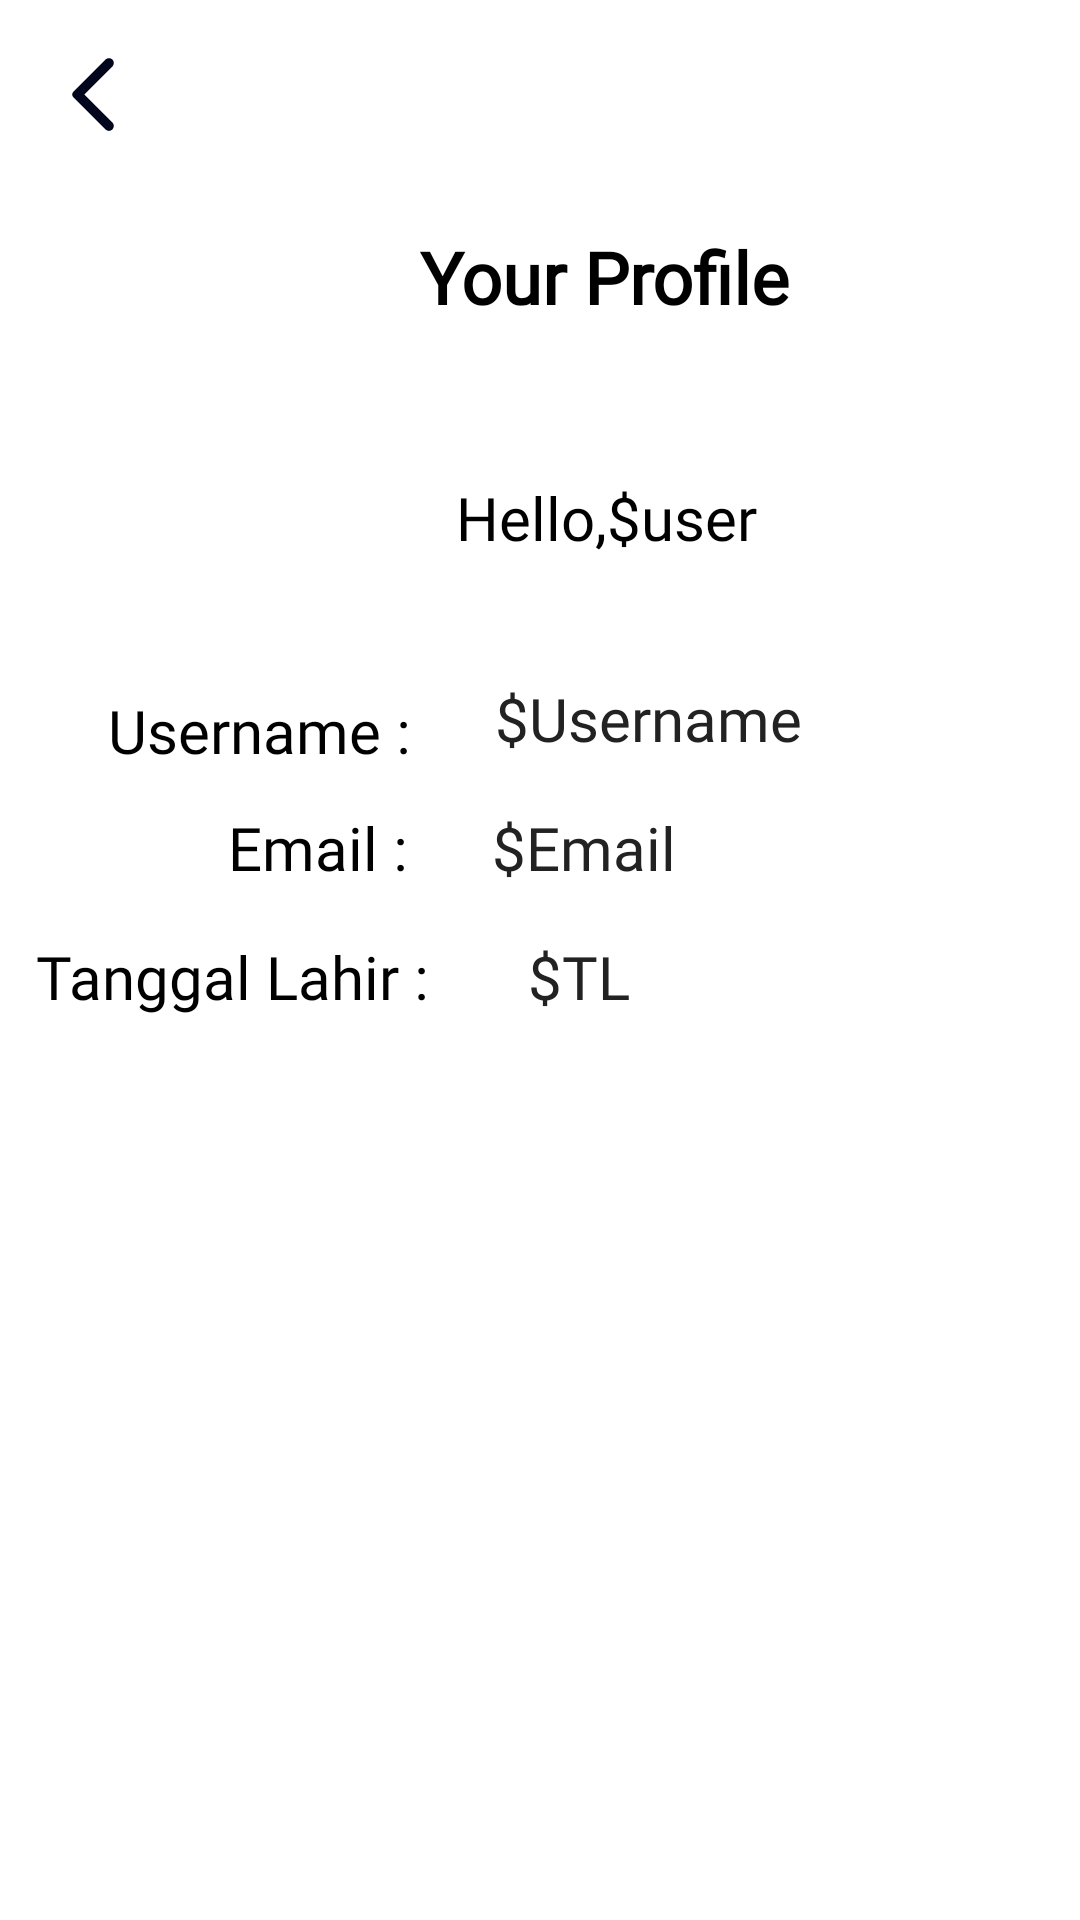

Named icons in this screenshot (1080 x 1920) and their bounding boxes, (x1, y1, x2, y2):
back: (72, 58, 114, 131)
